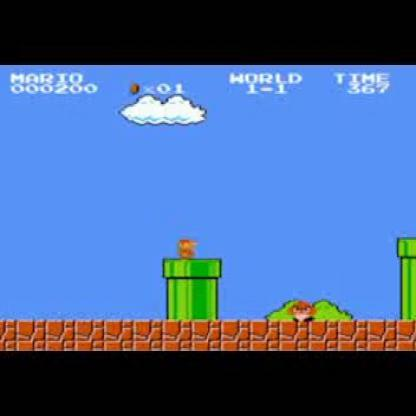Goomba: (284, 296, 320, 325)
